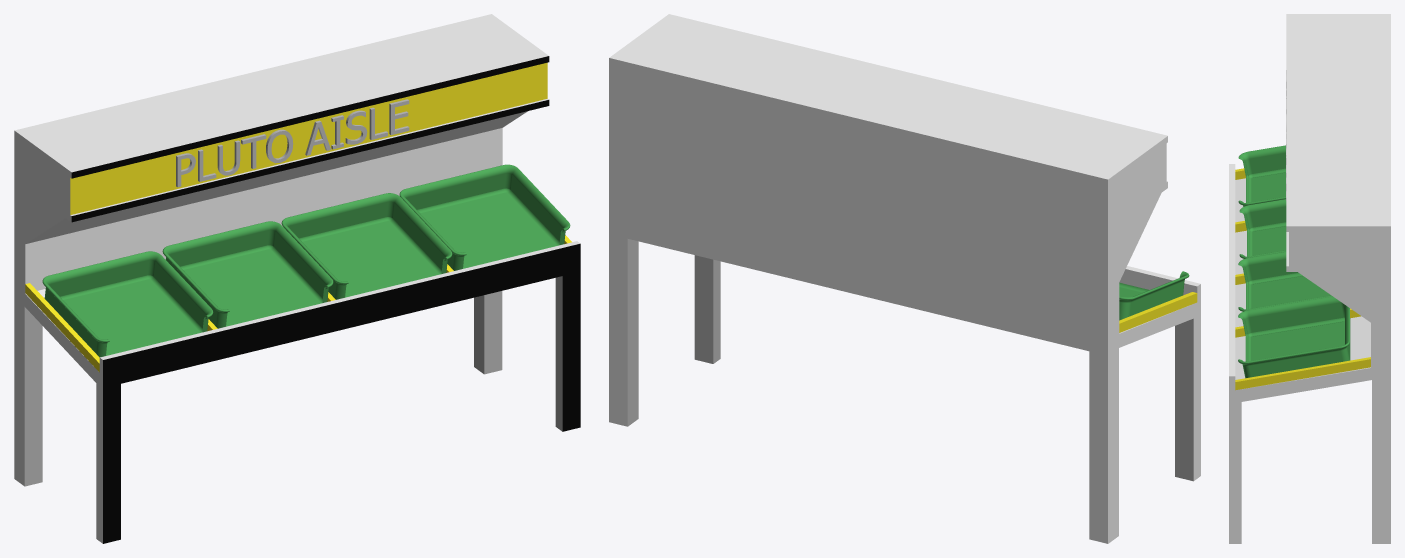
Rendered from Shelf.glb.
The picture shows the model from 3 angles, left to right: view 1: azimuth 30°, elevation 25°; view 2: azimuth 150°, elevation 25°; view 3: azimuth 270°, elevation 25°; orthographic projection. The views are drawn at different scales.
Parts seen in each view (by area): view 1: Solid1, Solid13, Solid12, Solid11, Solid4; view 2: Solid1, Solid13; view 3: Solid1, Solid4, Solid11, Solid13, Solid12.
Part boxes in pixels (x1,y1,x2,y2): Solid1: (14,14,580,543); Solid13: (42,251,213,357); Solid12: (162,221,333,328); Solid11: (281,193,452,299); Solid4: (399,164,570,270); Solid1: (609,14,1200,543); Solid13: (1119,271,1189,320); Solid1: (1229,14,1390,543); Solid4: (1238,296,1350,378); Solid11: (1238,251,1332,311); Solid13: (1238,145,1285,206); Solid12: (1239,199,1286,258).
Size of the model in its own units: 0.5 by 0.3488 by 0.161.
